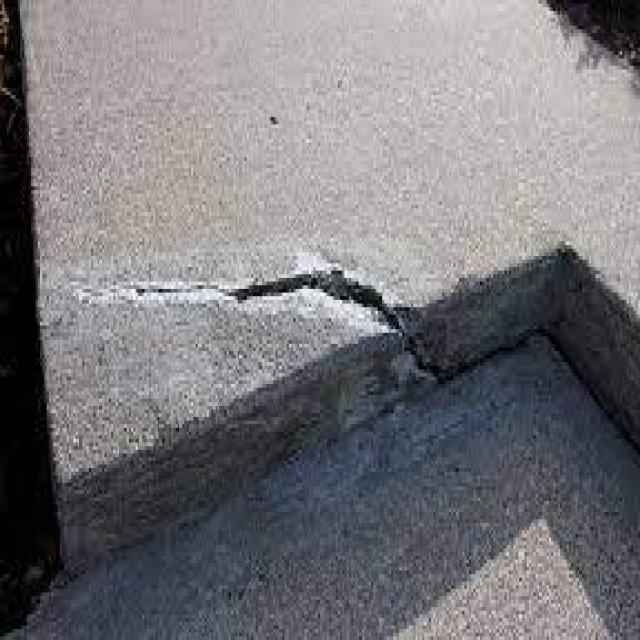crack: (82, 260, 442, 376)
